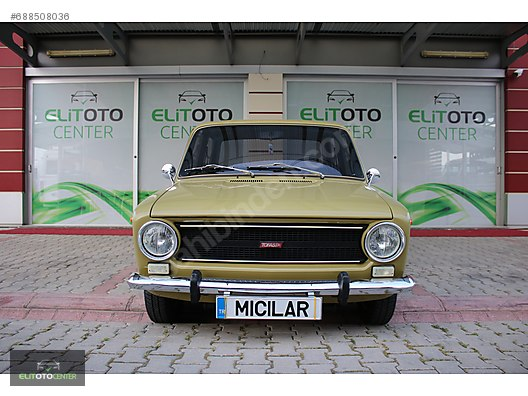murat: (127, 113, 416, 332)
